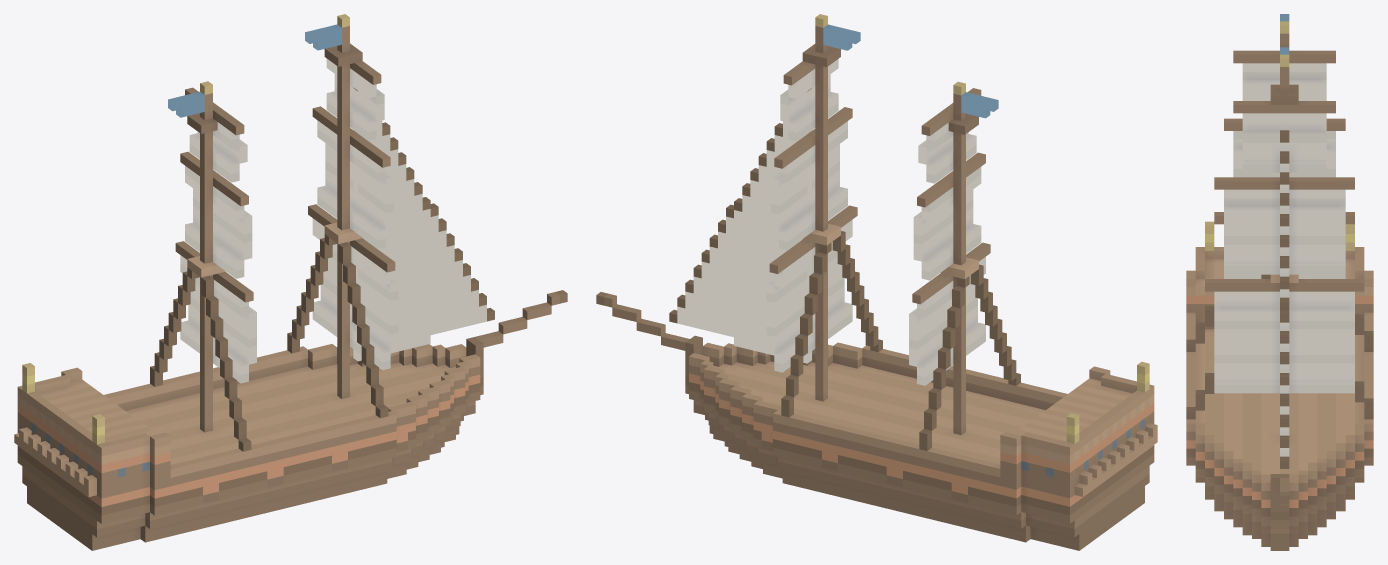
The model's file is brig.glb.
The picture shows the model from 3 angles, left to right: view 1: azimuth 30°, elevation 25°; view 2: azimuth 150°, elevation 25°; view 3: azimuth 270°, elevation 25°; orthographic projection.
Visible parts, largest first — view 1: brig; view 2: brig; view 3: brig.
Boxes of the visible parts, x1,y1,x2,y2 form: brig: (14,14,567,550); brig: (596,14,1157,550); brig: (1186,14,1373,550).
Bounding box in the file's own units: 3.2 × 2.6 × 1.
